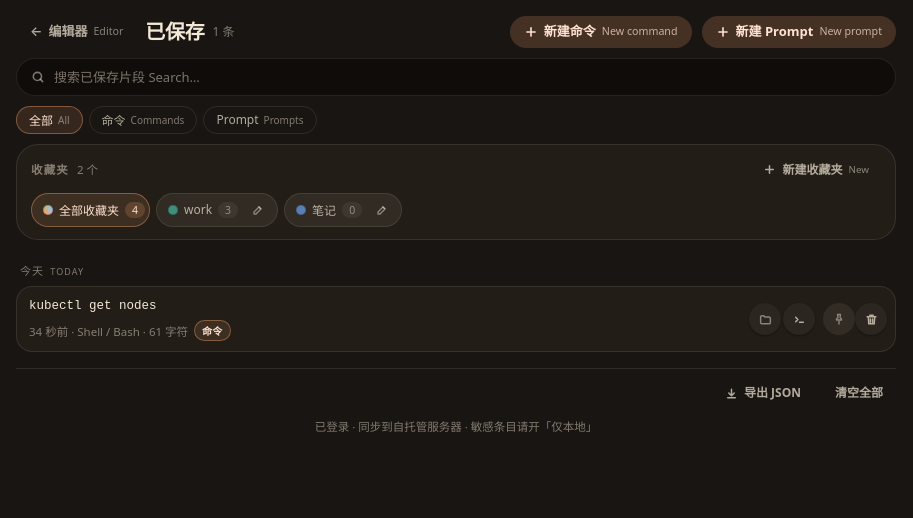
Test: SavedPage（收藏夹管理，云端模式） › 行内「移动到收藏夹」：列出未分类与各收藏夹，选中后回写归属
Click the button named "移动「kubectl get nodes」到收藏夹" at {"x": 765, "y": 319}, box x1=749 y1=303 x2=781 y2=335
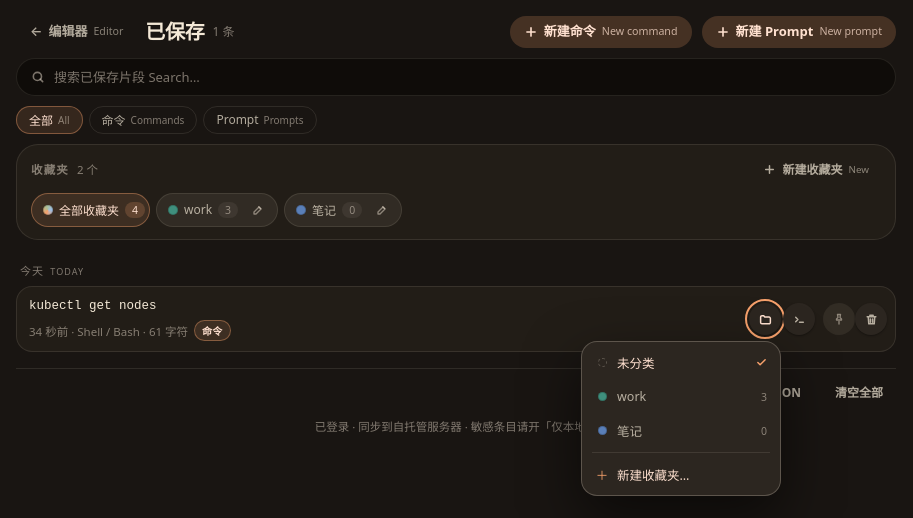
Expected: the button "未分类" is shown, x1=586 y1=346 x2=776 y2=379
Click the 2nd button "work 3" at {"x": 681, "y": 397}, box x1=586 y1=381 x2=776 y2=412
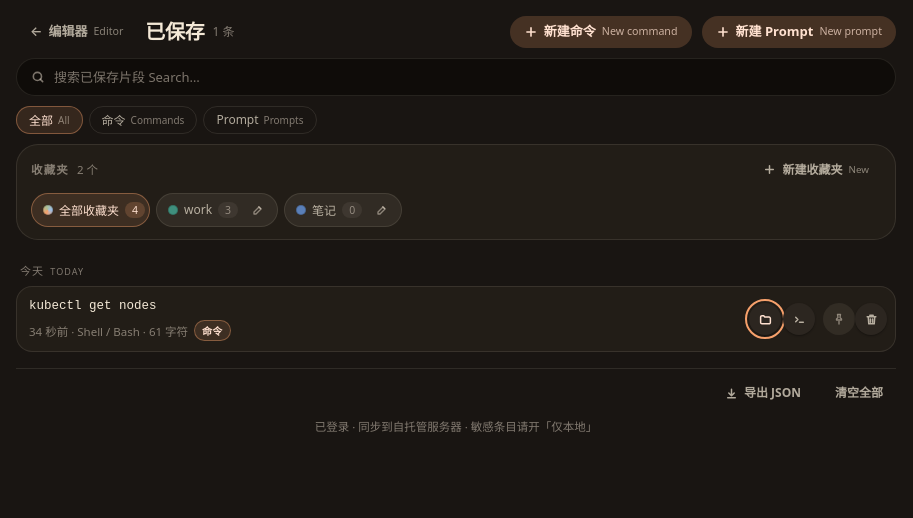
Expected: the element "移动到收藏夹" is gone
